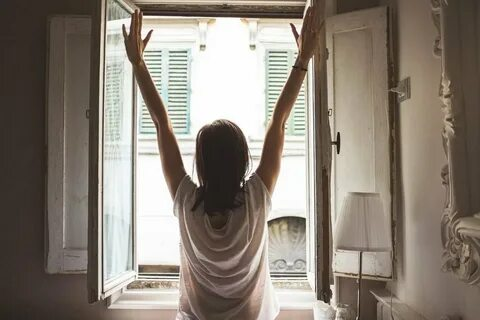awake: (119, 5, 325, 320)
